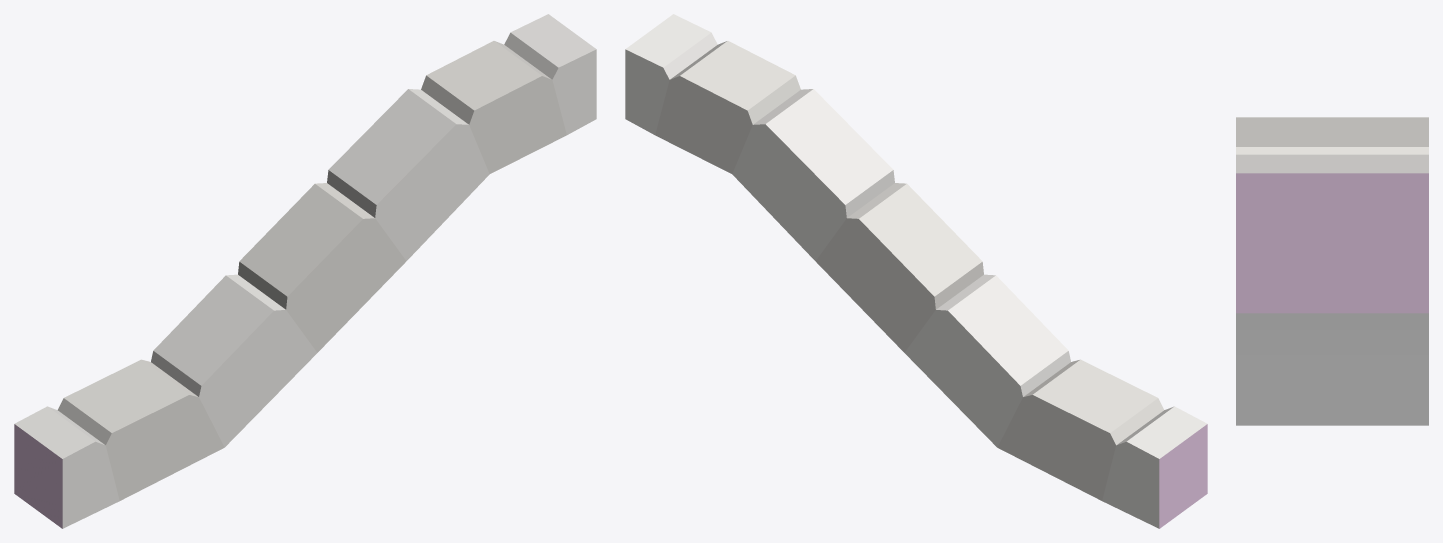
Rendered from Path_Edging_Stones_Incline_Sharp_1x2.glb.
The picture shows the model from 3 angles, left to right: view 1: azimuth 30°, elevation 25°; view 2: azimuth 150°, elevation 25°; view 3: azimuth 270°, elevation 25°; orthographic projection. The views are drawn at different scales.
Parts seen in each view (by area): view 1: Path_Edging_Stones_Incline_Sharp_1x2; view 2: Path_Edging_Stones_Incline_Sharp_1x2; view 3: Path_Edging_Stones_Incline_Sharp_1x2.
Part boxes in pixels (x1,y1,x2,y2): Path_Edging_Stones_Incline_Sharp_1x2: (14,14,596,528); Path_Edging_Stones_Incline_Sharp_1x2: (625,14,1207,528); Path_Edging_Stones_Incline_Sharp_1x2: (1236,117,1428,425).
Size of the model in its own units: 200 by 125 by 31.25.
